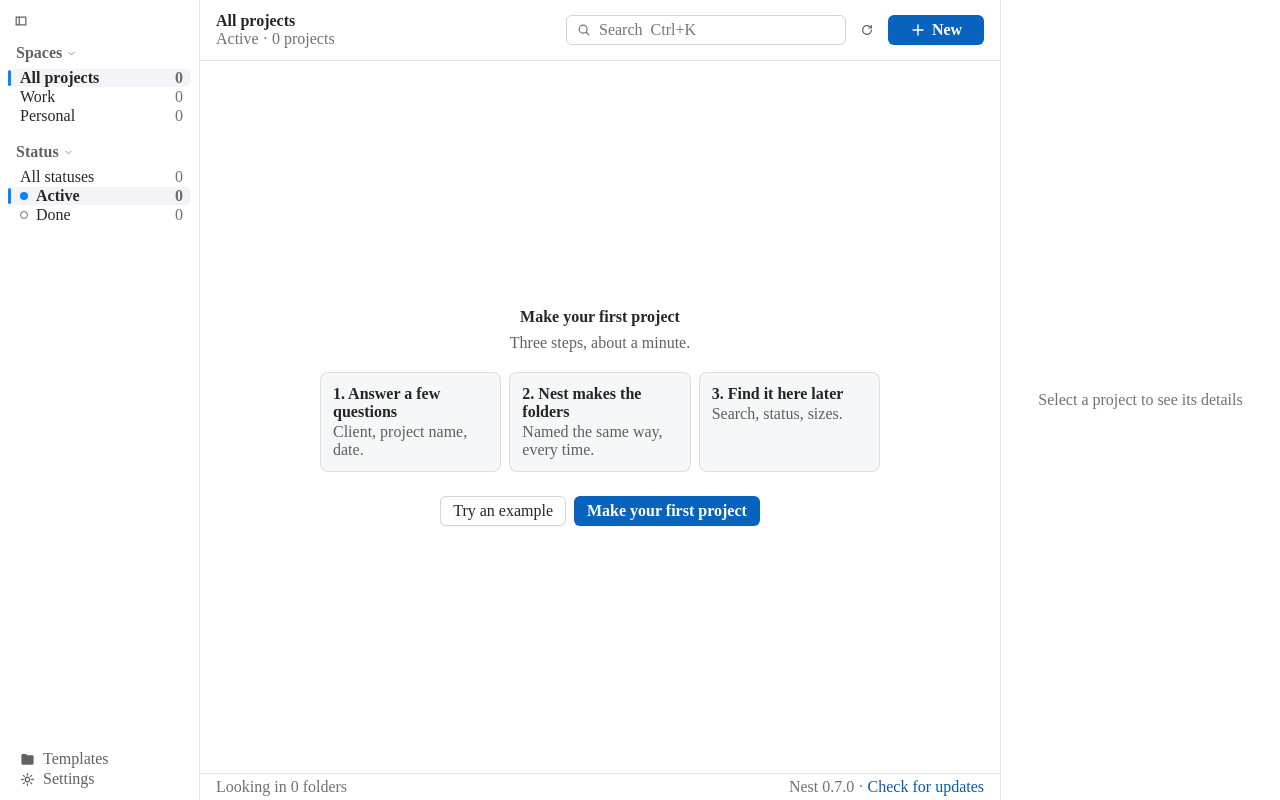
Scenario: Main: first steps › New Project from the guide starts empty (not the example)
What coordinates should you click on to do the following:
click the button "Make your first project"
I would click on:
 (667, 511)
Its box is [574,496,760,526].
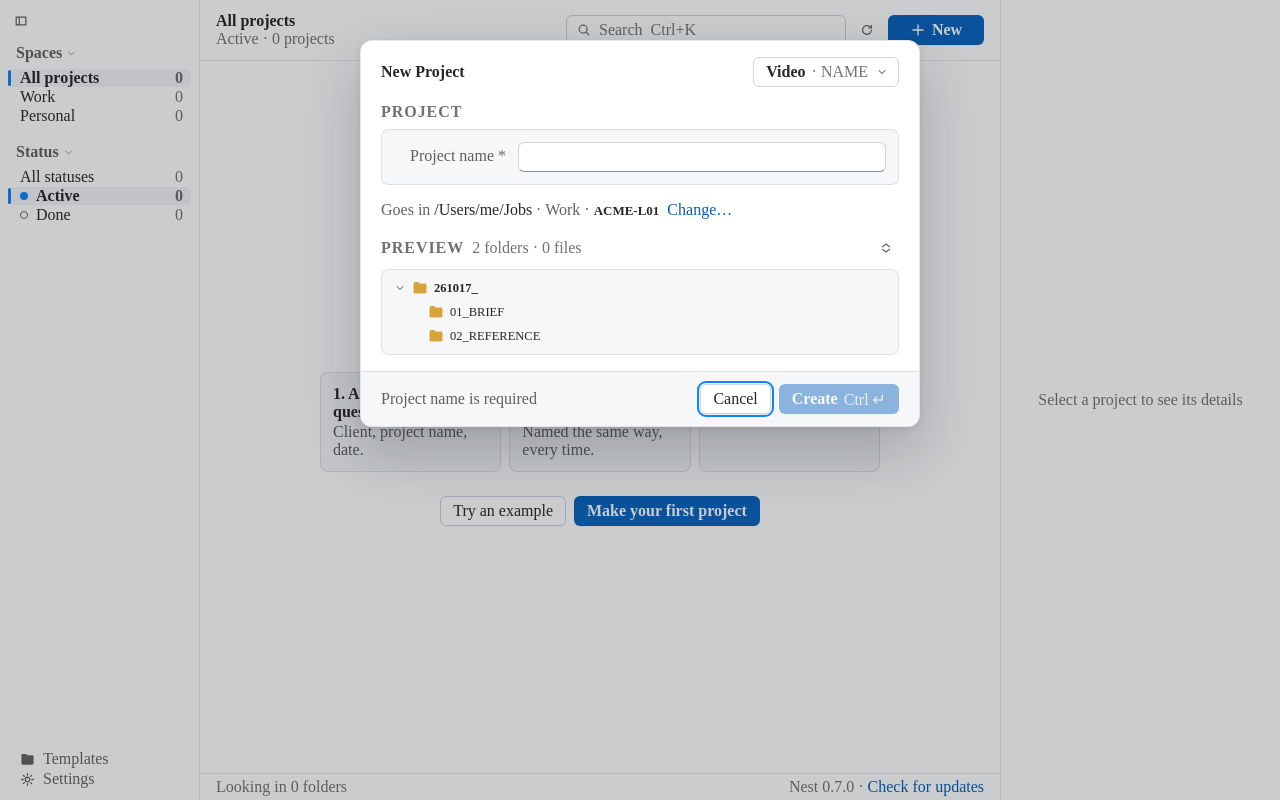
Expected: the field labelled "Project name *" is empty, [518,142,886,172]
Result: the dialog is shown at [360,40,920,427]
Result: the field labelled "Project name *" is shown at [518,142,886,172]
